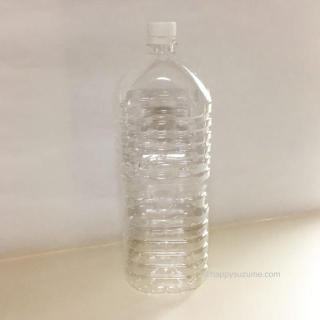Anorganik: (116, 19, 216, 298)
